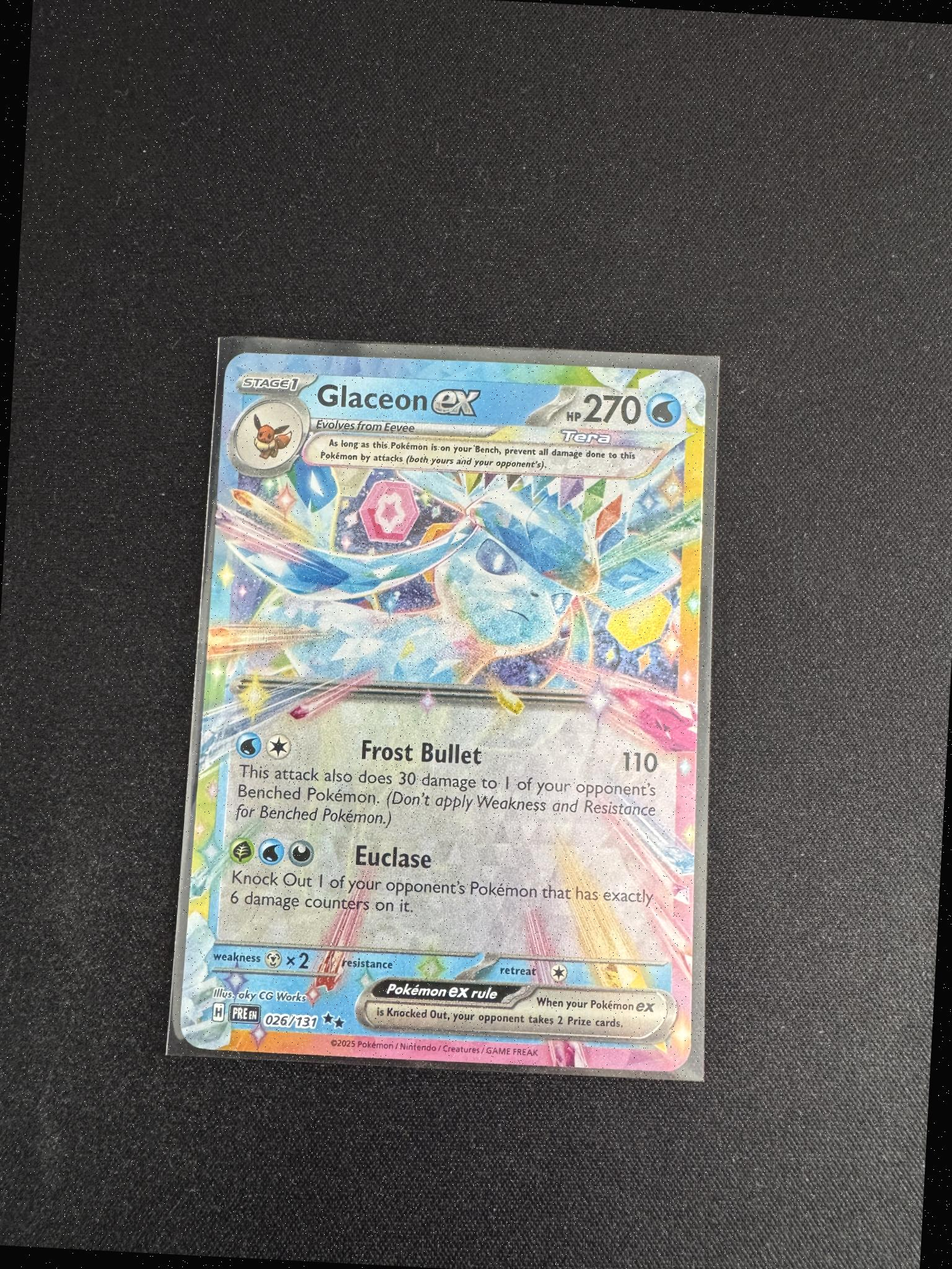card-2UtV: (180, 352, 706, 1071)
